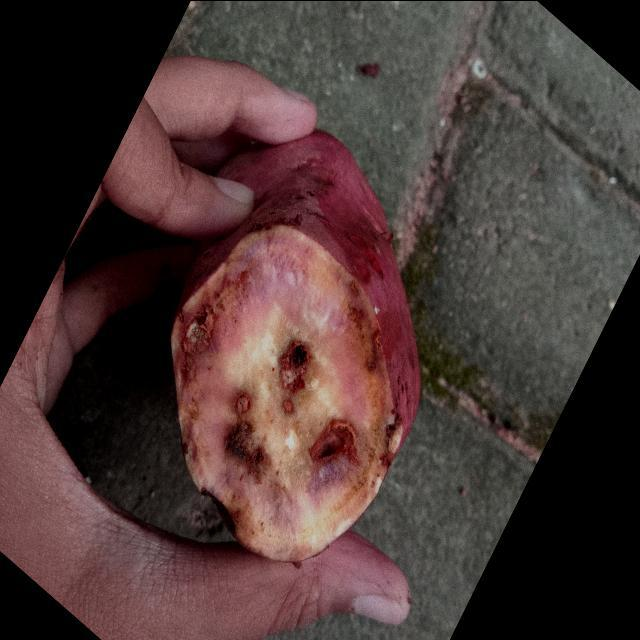Sick Sweet Potato_Tuber Rot: (171, 223, 402, 560)
